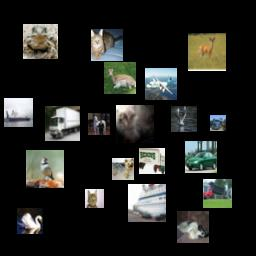airplane: (145, 68, 177, 100)
automobile: (185, 141, 217, 173)
bird: (26, 150, 64, 188), (171, 106, 197, 132), (17, 208, 43, 234)
cat: (91, 29, 123, 61), (85, 189, 104, 208)
deer: (188, 33, 226, 71), (104, 62, 136, 94)
dog: (116, 105, 154, 143), (177, 211, 209, 243), (112, 158, 134, 180)
frog: (23, 24, 58, 59)
ship: (128, 184, 166, 222), (4, 98, 33, 127)
truck: (45, 106, 80, 141), (203, 179, 232, 208), (139, 148, 165, 174), (210, 115, 226, 131)
